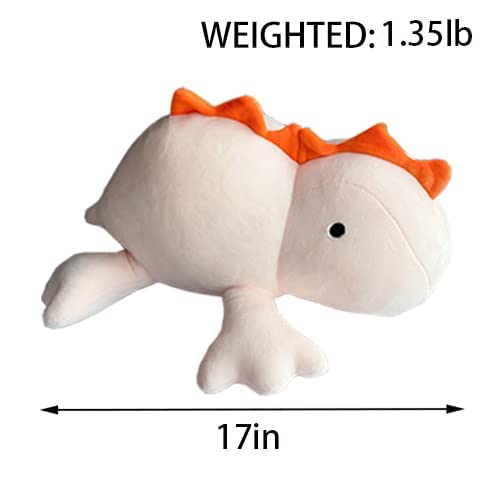WEIGHTED:: (201, 21, 375, 48)
